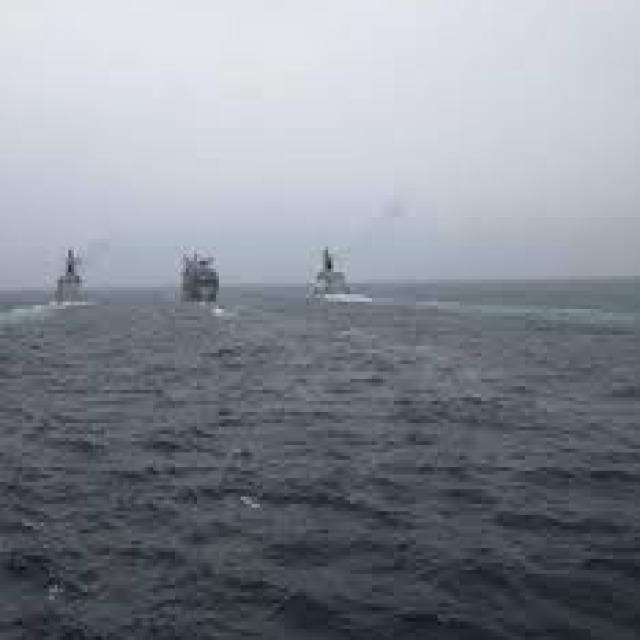navalvessels: (295, 228, 367, 304), (176, 238, 228, 300), (49, 238, 84, 306)
